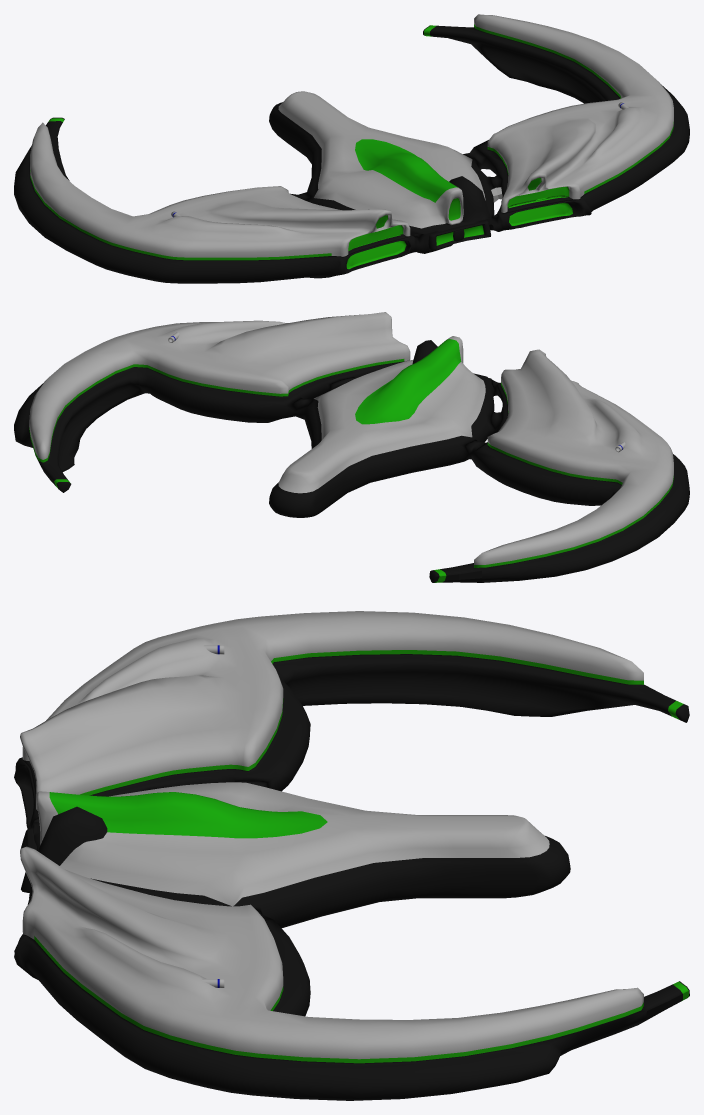
File: spaceship1.obj
The picture shows the model from 3 angles, top to bottom: view 1: azimuth 30°, elevation 25°; view 2: azimuth 150°, elevation 25°; view 3: azimuth 270°, elevation 25°; orthographic projection. The views are drawn at different scales.
Visible parts, largest first — view 1: Plane; view 2: Plane; view 3: Plane.
Part boxes in pixels (x1=…): Plane: x1=14, y1=14, x2=689, y2=283; Plane: x1=14, y1=312, x2=689, y2=582; Plane: x1=14, y1=611, x2=689, y2=1100.
Size of the model in its own units: 33.4 by 4 by 20.84.
